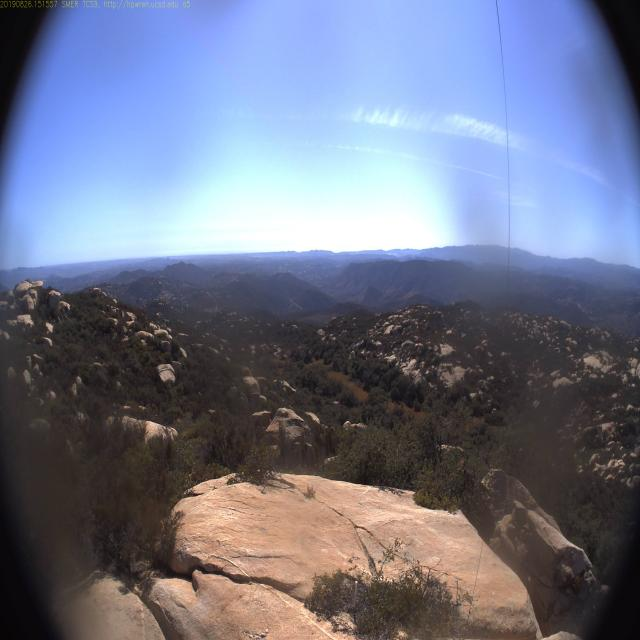smoke: (386, 249, 396, 258)
